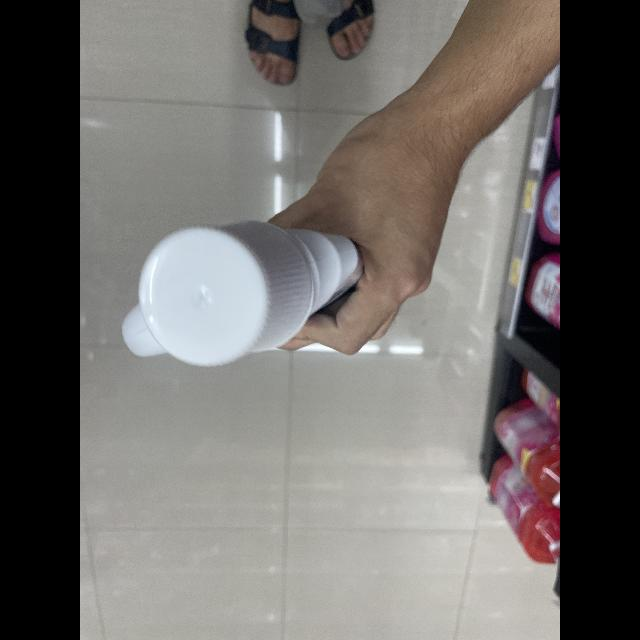chemical_plastic_gallon: (107, 192, 380, 376)
